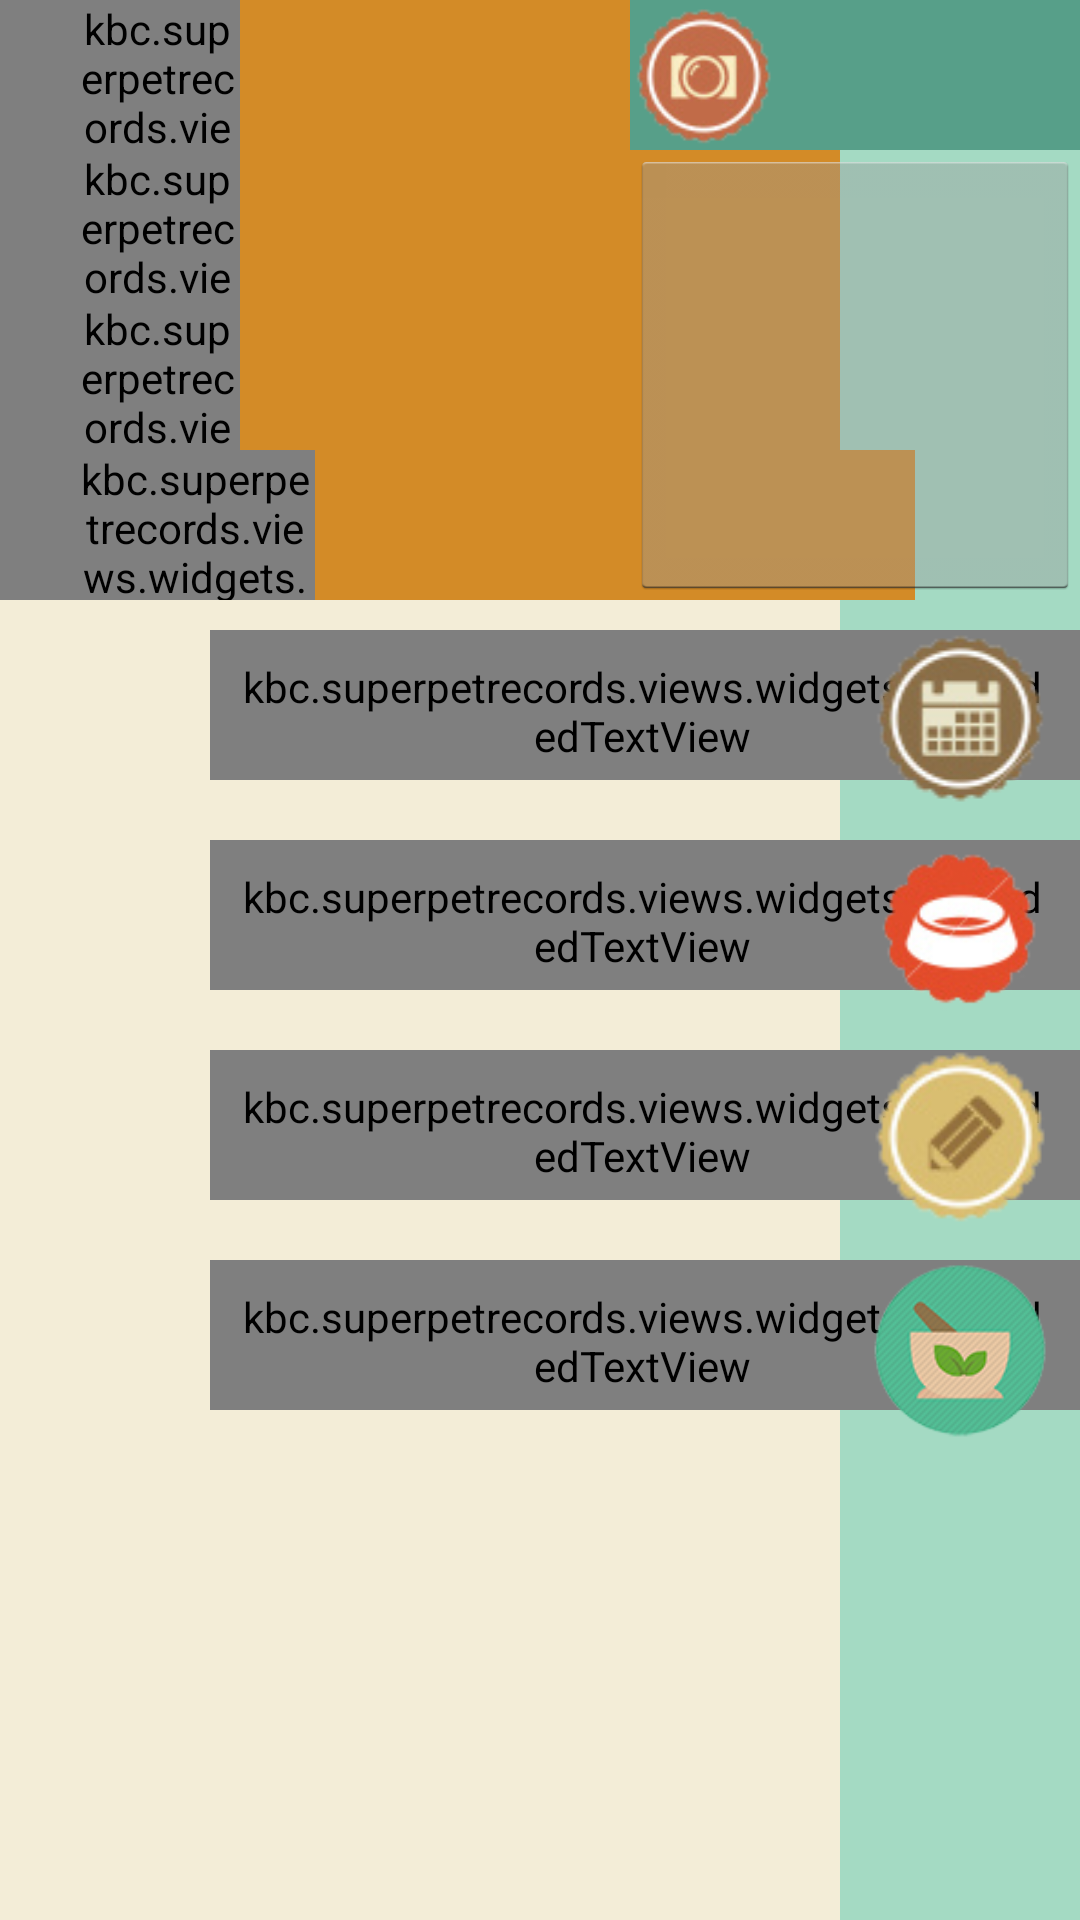

Icon click points for this 1080px x 1920px phone screenshot, format (x=x, y=y):
calendar badge: (x=960, y=715)
camera badge: (x=704, y=76)
diet badge: (x=960, y=921)
pencil badge: (x=960, y=1135)
pharmacy badge: (x=960, y=1348)
